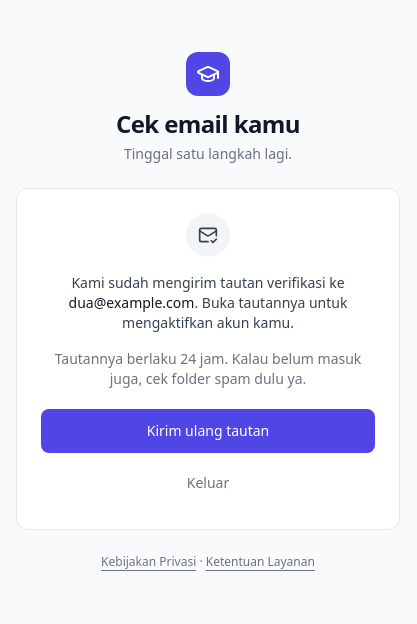
Test: resend cooldown › sends exactly one message per press
The image size is (417, 624).
Step 1. Click the button "Kirim ulang tautan" → (208, 431), box [41,409,375,453]
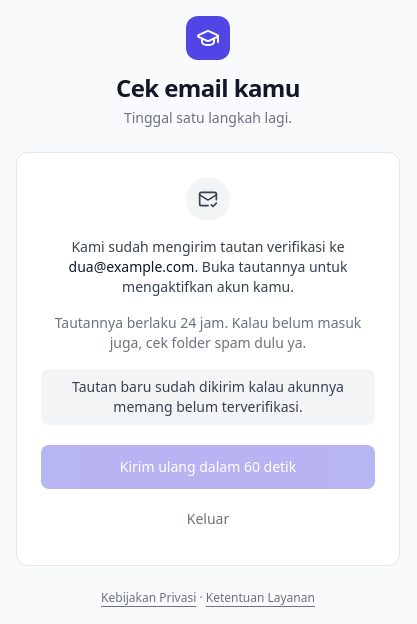
Now the button named "Kirim ulang tautan" is disabled, box [41,445,375,489]
